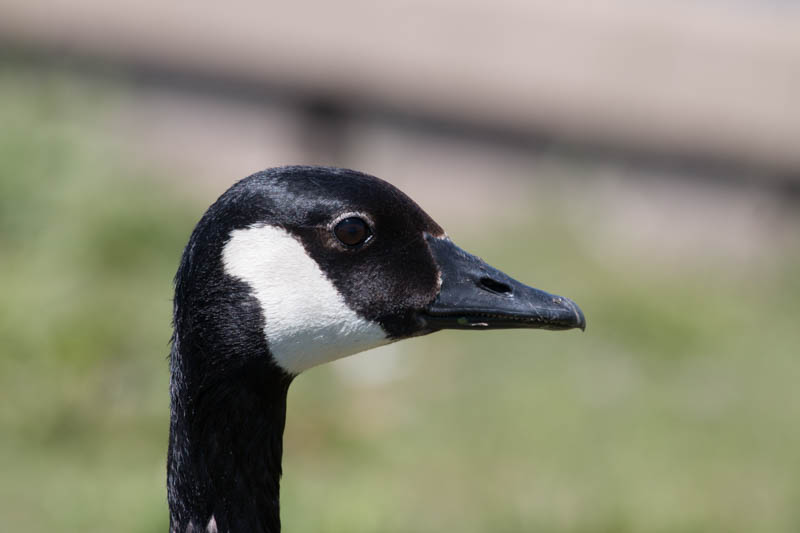goose-head: (172, 165, 585, 375)
